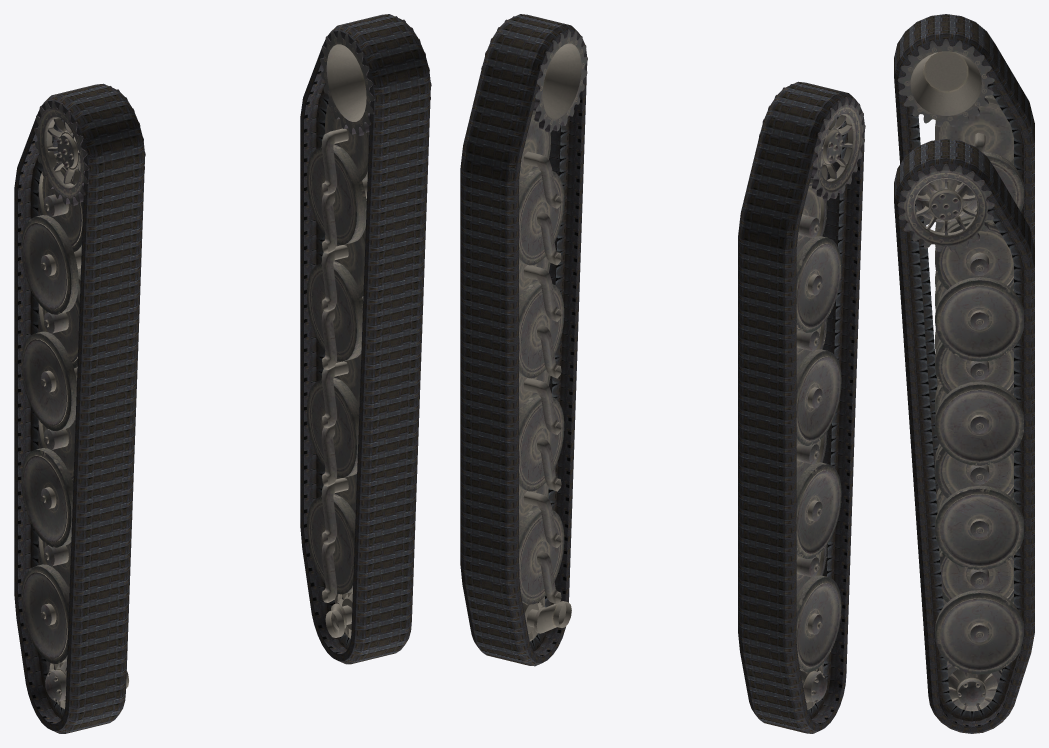
The model's file is Chassis.glb.
3 views of the same model, side by side, from view 1: azimuth 30°, elevation 25°; view 2: azimuth 150°, elevation 25°; view 3: azimuth 270°, elevation 25° (orthographic). The views are drawn at different scales.
Visible parts, largest first — view 1: set_7_group_0, set_5_group_0, set_3_group_0, set_1_group_0, set_6_group_0, set_4_group_0, set_0_group_0; view 2: set_7_group_0, set_5_group_0, set_1_group_0, set_3_group_0, set_4_group_0, set_6_group_0, set_0_group_0; view 3: set_1_group_0, set_5_group_0, set_7_group_0, set_3_group_0, set_4_group_0.
Part boxes in pixels (<box>): set_7_group_0: <box>14,83,144,733</box>; set_5_group_0: <box>300,14,430,664</box>; set_3_group_0: <box>21,86,145,708</box>; set_1_group_0: <box>307,16,431,638</box>; set_6_group_0: <box>14,536,55,694</box>; set_4_group_0: <box>300,466,343,624</box>; set_0_group_0: <box>321,425,348,529</box>; set_7_group_0: <box>738,81,864,733</box>; set_5_group_0: <box>460,14,587,666</box>; set_1_group_0: <box>481,16,587,641</box>; set_3_group_0: <box>759,84,865,709</box>; set_4_group_0: <box>460,508,531,656</box>; set_6_group_0: <box>738,575,809,724</box>; set_0_group_0: <box>523,437,555,537</box>; set_1_group_0: <box>897,163,1023,711</box>; set_5_group_0: <box>894,139,1034,733</box>; set_7_group_0: <box>894,14,1034,493</box>; set_3_group_0: <box>897,38,1023,496</box>; set_4_group_0: <box>992,576,1034,714</box>.
Size of the model in its own units: 3.17 by 5.65 by 1.25.
8 materials, 8 textured.
